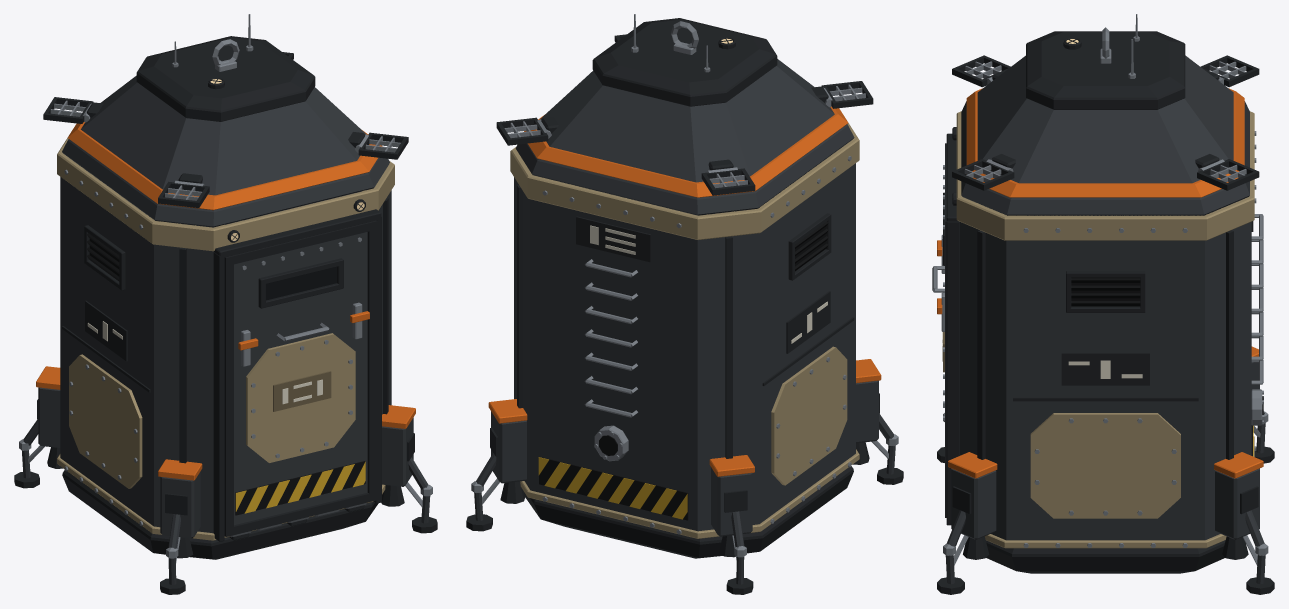
File: drop_capsule.fbx
The picture shows the model from 3 angles, left to right: view 1: azimuth 30°, elevation 25°; view 2: azimuth 150°, elevation 25°; view 3: azimuth 270°, elevation 25°; orthographic projection. The views are drawn at different scales.
Parts seen in each view (by area): view 1: Body, Door, Fins; view 2: Body, Fins; view 3: Body, Fins, Door.
Part boxes in pixels (bbox=[...]): Body: bbox=[14, 14, 437, 594]; Door: bbox=[224, 220, 377, 536]; Fins: bbox=[43, 52, 408, 207]; Body: bbox=[466, 14, 903, 594]; Fins: bbox=[496, 34, 873, 195]; Body: bbox=[937, 14, 1274, 594]; Fins: bbox=[952, 55, 1259, 190]; Door: bbox=[932, 143, 946, 517].
Bounding box in the file's own units: 7.64 × 12.55 × 7.74.
6 materials, 4 textured.
